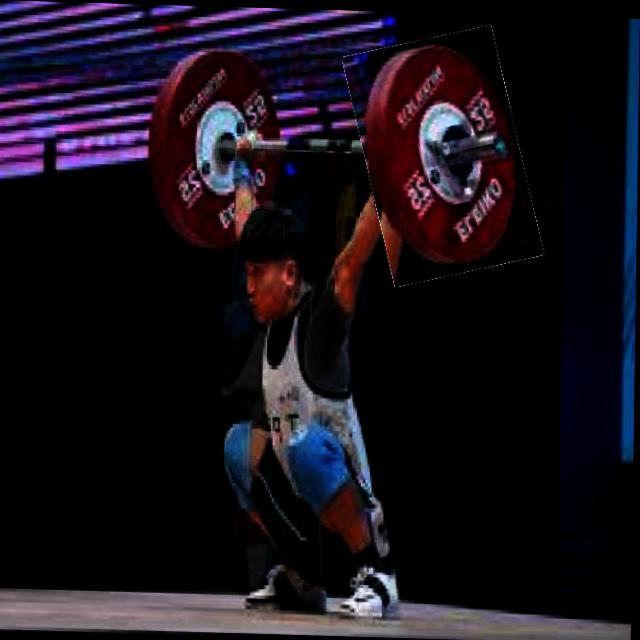barbell: (354, 27, 536, 281)
